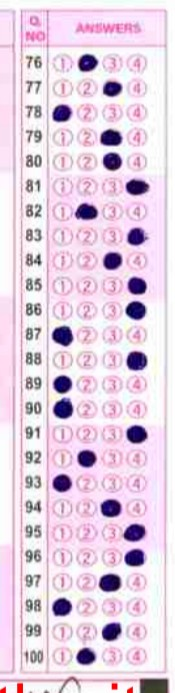filled circles: (52, 326, 73, 347), (53, 398, 72, 418), (99, 573, 120, 591), (125, 549, 146, 567), (102, 622, 121, 641), (53, 375, 72, 394), (127, 351, 146, 370), (101, 499, 121, 517), (124, 523, 144, 541), (75, 203, 97, 219), (126, 301, 145, 319), (127, 425, 146, 443), (100, 129, 121, 145), (126, 179, 148, 194), (78, 54, 97, 71), (52, 598, 71, 615), (76, 647, 95, 664), (128, 277, 146, 294), (103, 153, 121, 170), (53, 474, 71, 491), (103, 252, 121, 269), (127, 228, 146, 244), (78, 450, 95, 467), (103, 80, 121, 96), (53, 105, 71, 121)
